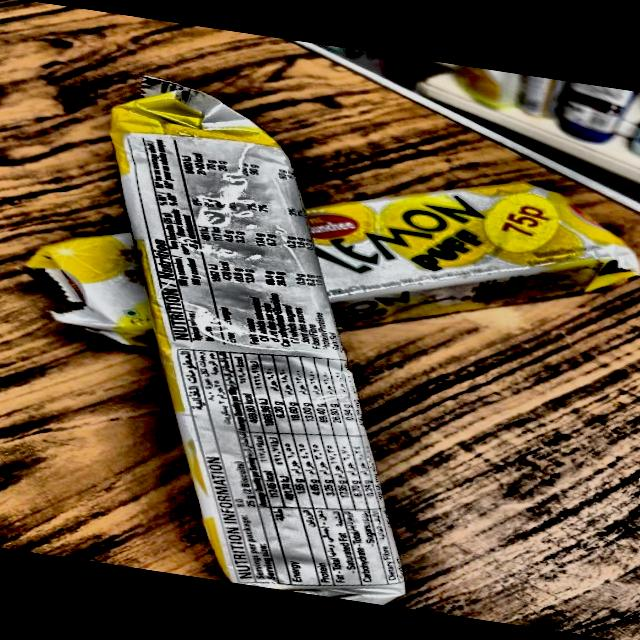lemon puff: (122, 90, 386, 588), (30, 182, 630, 374)
